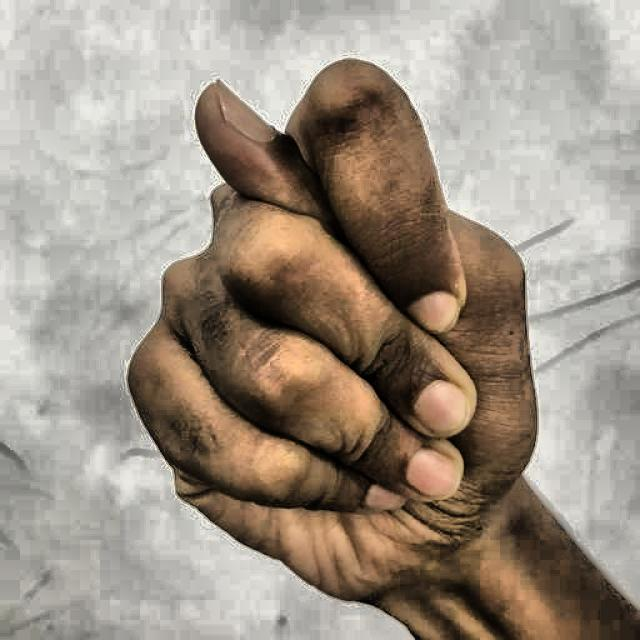Ta: (103, 36, 592, 640)
